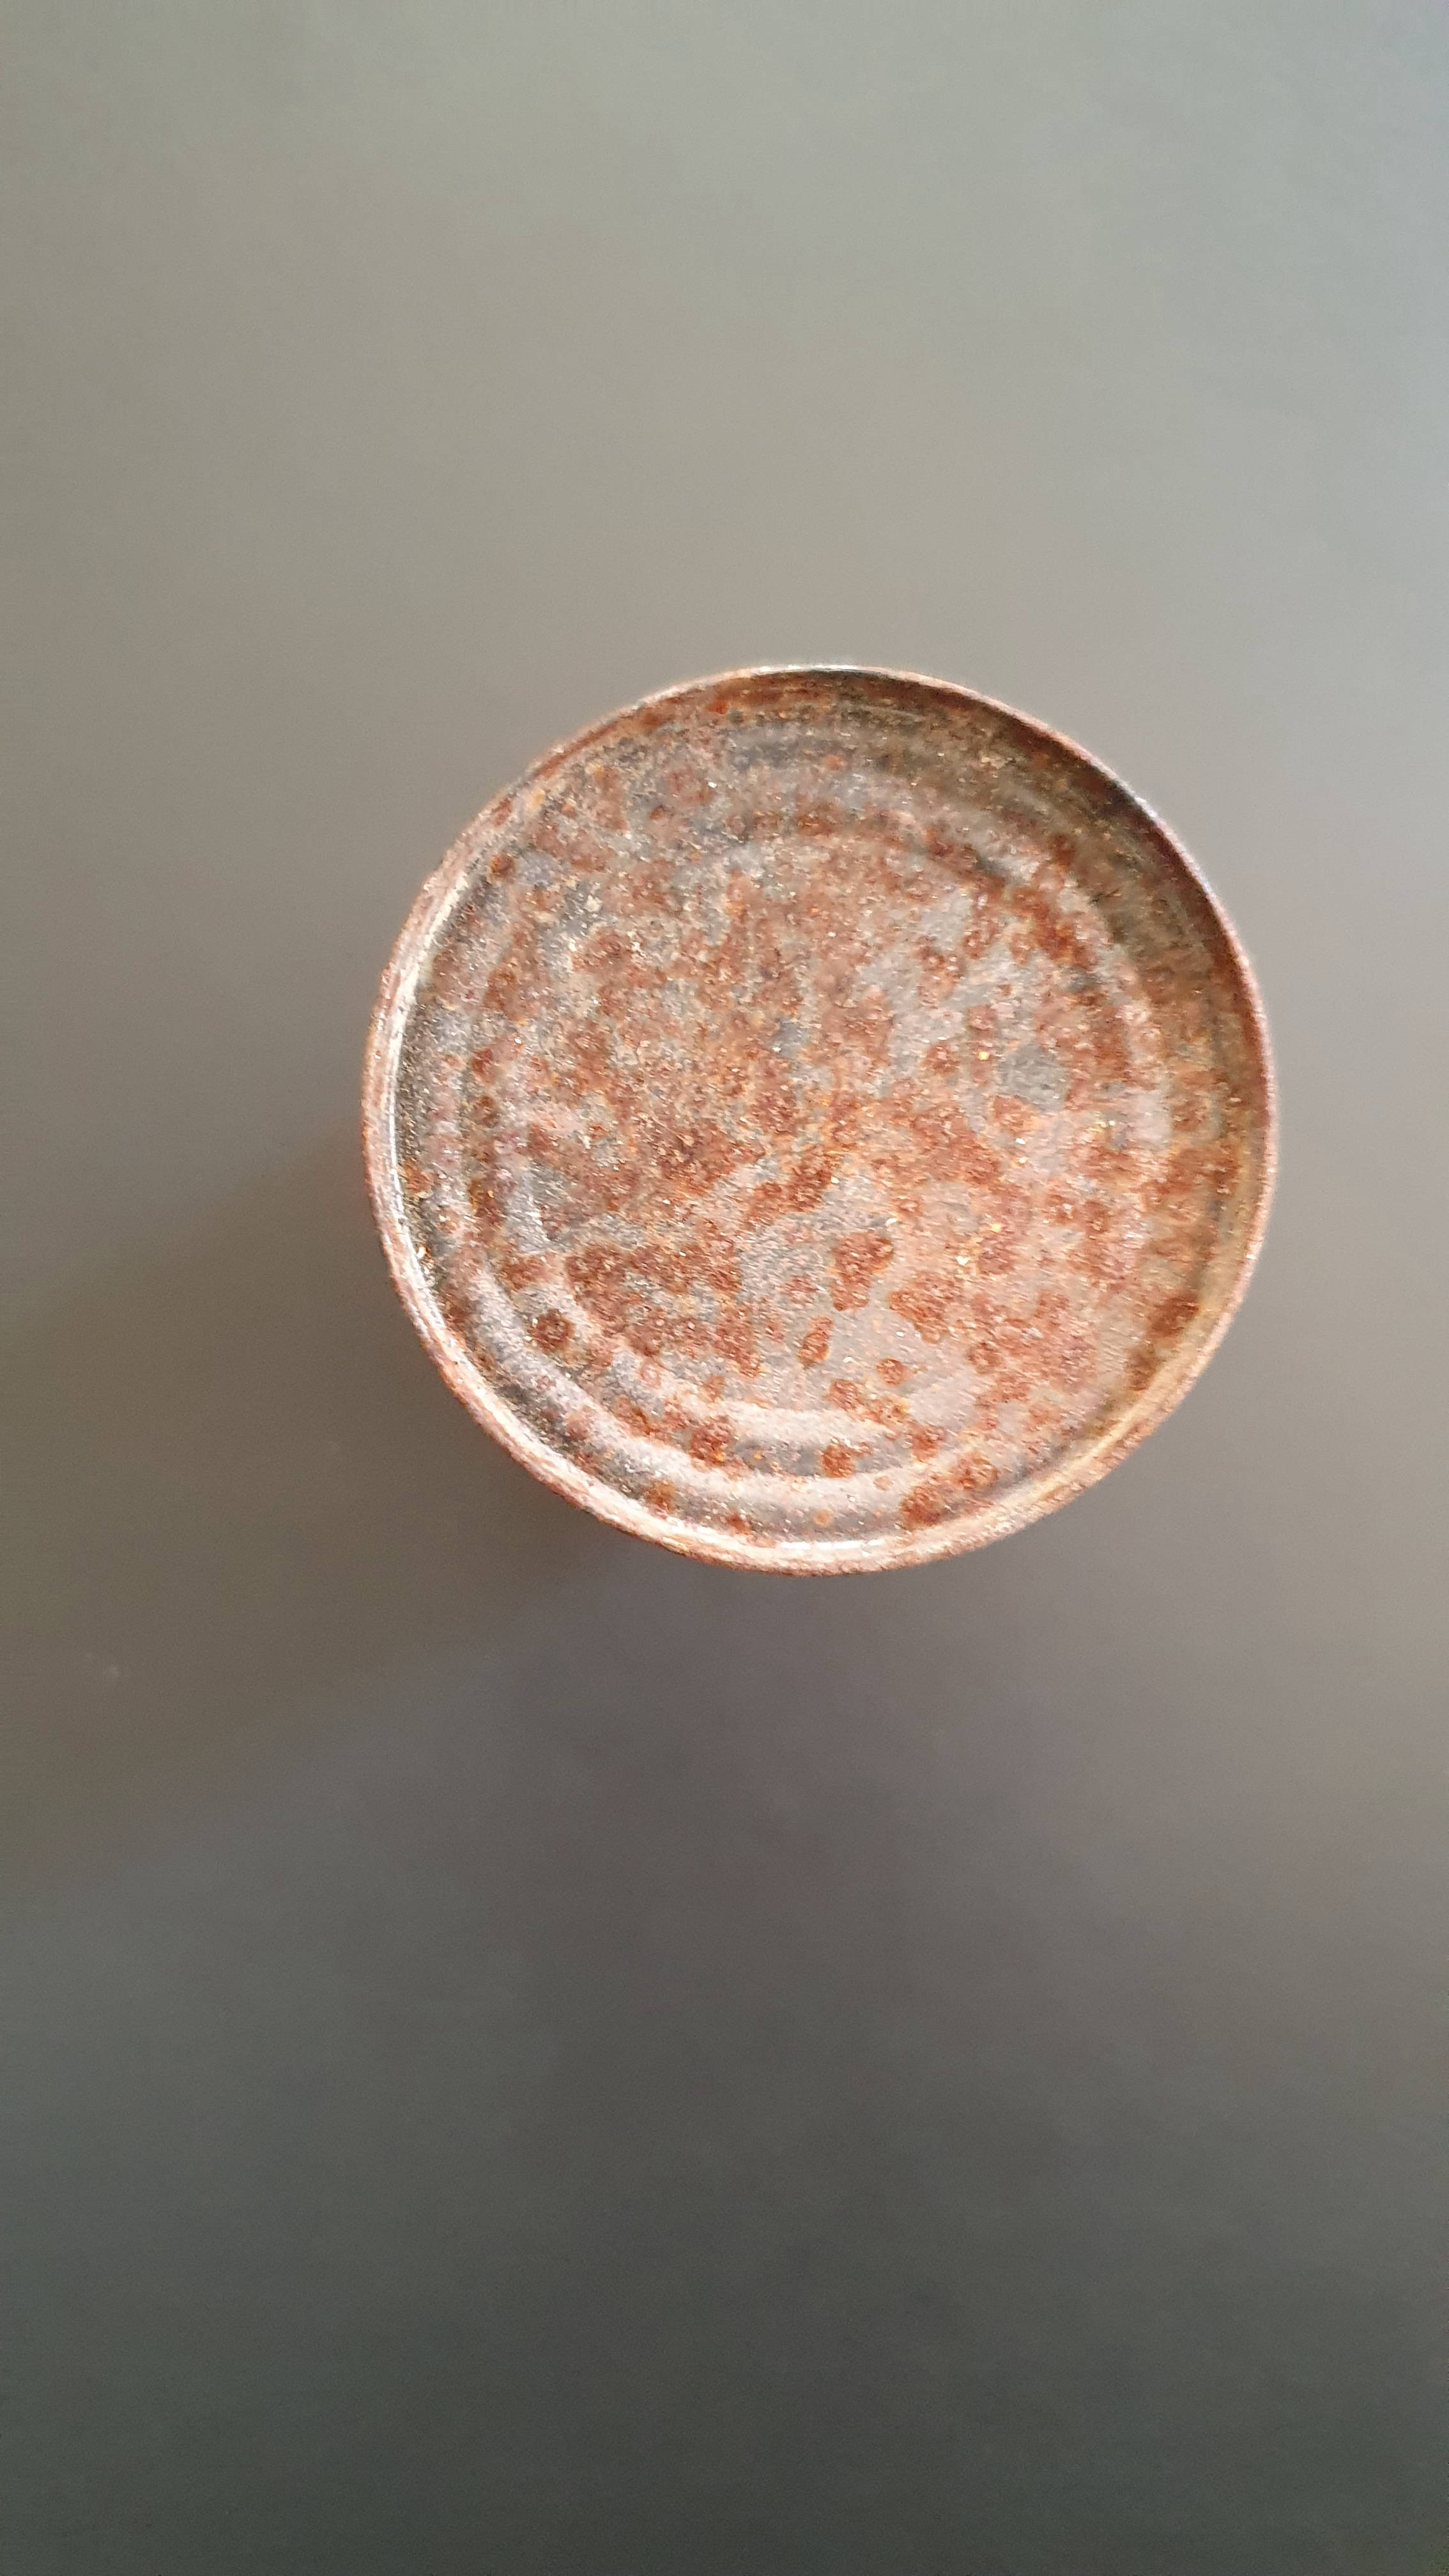metal: (294, 610, 1329, 1619)
